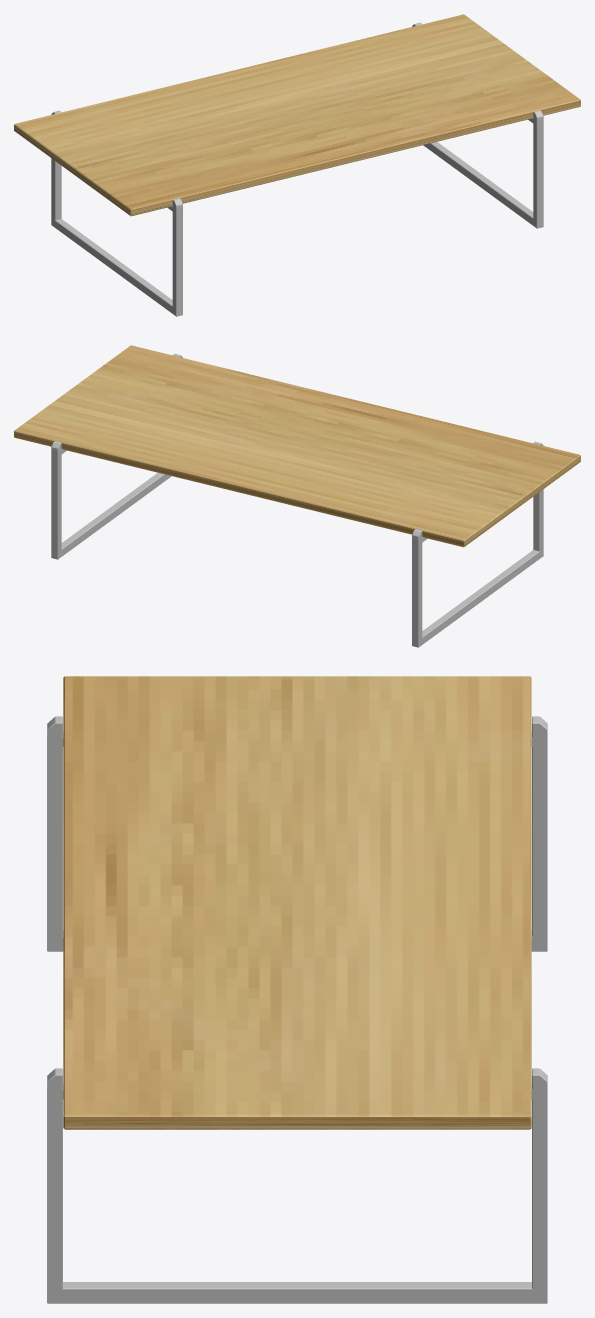
The model's file is Coffetable_Textured.fbx.
3 renders of one model, top to bottom at view 1: azimuth 30°, elevation 25°; view 2: azimuth 150°, elevation 25°; view 3: azimuth 270°, elevation 25°, orthographic. The views are drawn at different scales.
Visible parts, largest first — view 1: polySurface4; view 2: polySurface4; view 3: polySurface4.
Boxes of the visible parts, x1=… form: polySurface4: x1=14, y1=14, x2=580, y2=316; polySurface4: x1=14, y1=345, x2=580, y2=647; polySurface4: x1=47, y1=676, x2=547, y2=1303.
Size of the model in its own units: 19.99 by 4.86 by 9.61.
